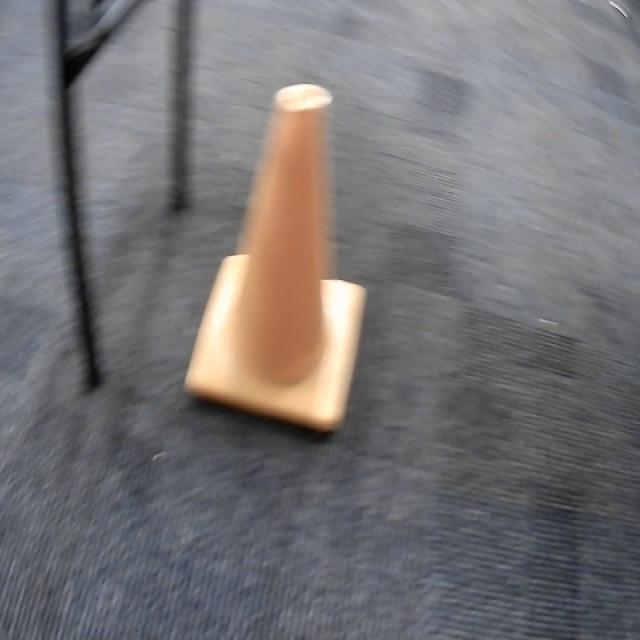cone: (183, 82, 368, 433)
